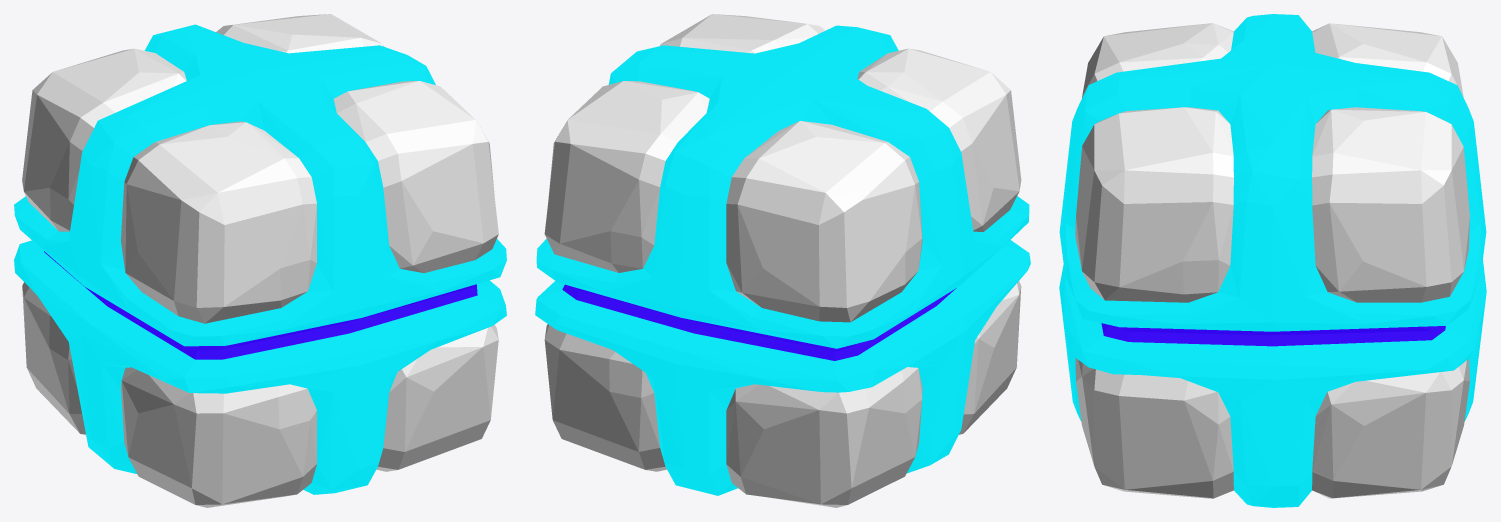
The model's file is invisibility.glb.
3 renders of one model, left to right at view 1: azimuth 30°, elevation 25°; view 2: azimuth 150°, elevation 25°; view 3: azimuth 270°, elevation 25°, orthographic. The views are drawn at different scales.
Parts seen in each view (by area): view 1: invisibility; view 2: invisibility; view 3: invisibility.
Boxes of the visible parts, x1,y1,x2,y2 form: invisibility: (14, 14, 506, 507); invisibility: (535, 14, 1030, 507); invisibility: (1059, 14, 1486, 507).
Bounding box in the file's own units: 2.13 × 2.13 × 2.13.
